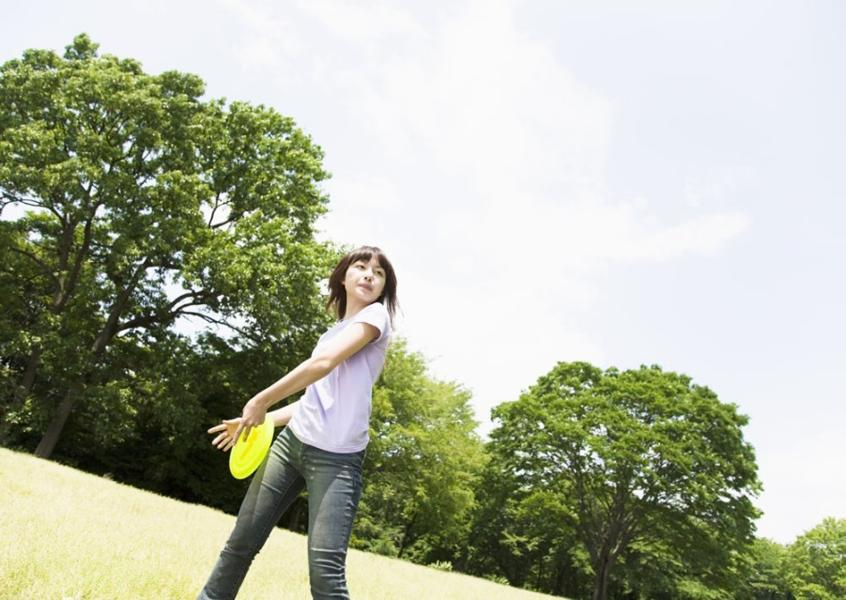person: (196, 247, 399, 600)
